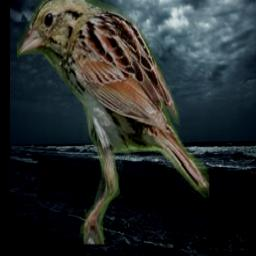Sparrow: (17, 0, 209, 246)
